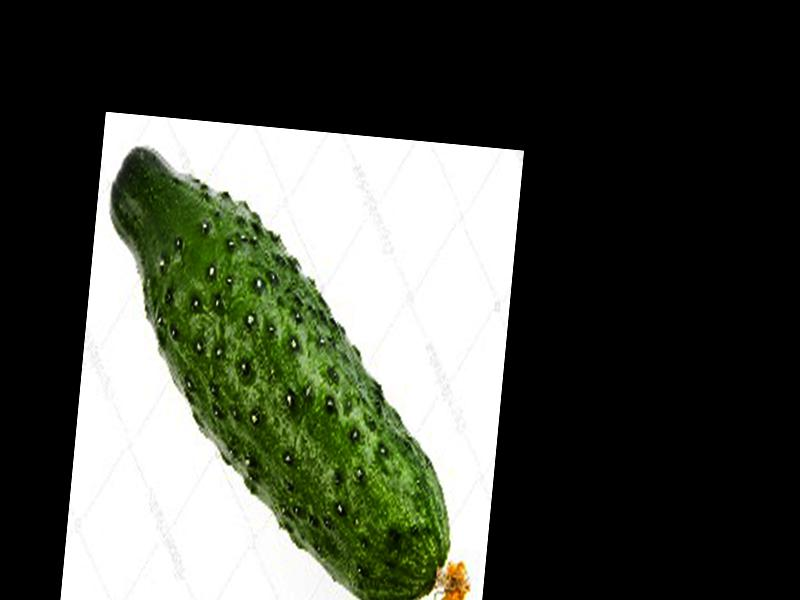Cucumber: (76, 144, 506, 600)
